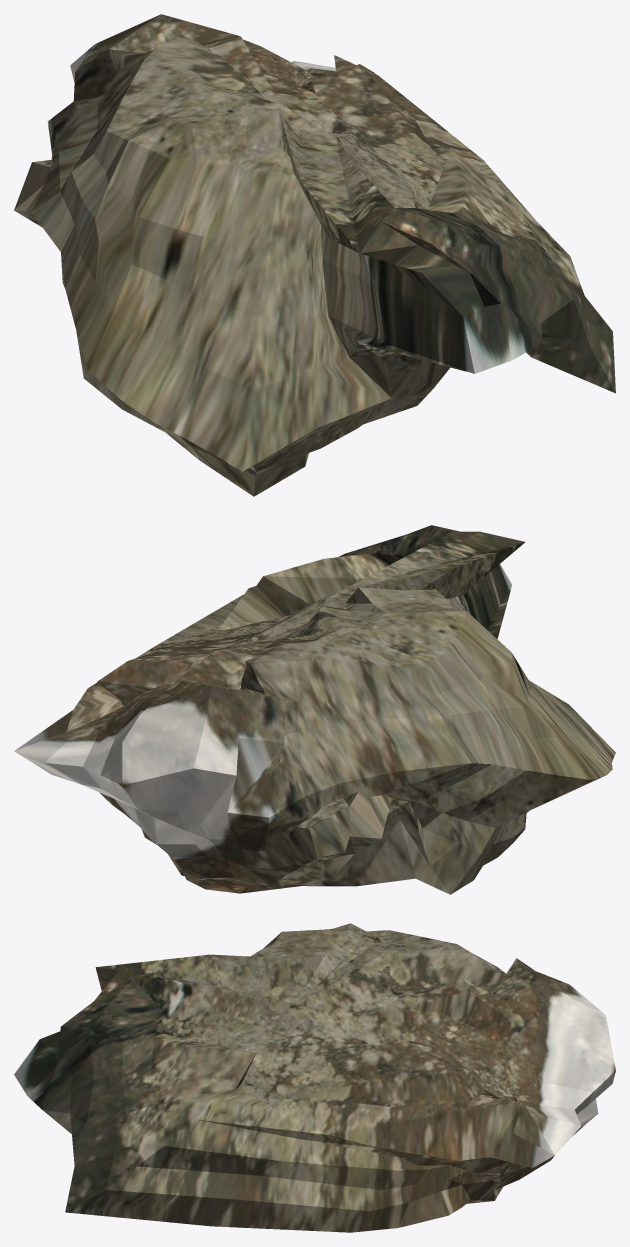
Rendered from PedraDOIS.fbx.
The picture shows the model from 3 angles, top to bottom: view 1: azimuth 30°, elevation 25°; view 2: azimuth 150°, elevation 25°; view 3: azimuth 270°, elevation 25°; orthographic projection. The views are drawn at different scales.
Visible parts, largest first — view 1: Sphere.011; view 2: Sphere.011; view 3: Sphere.011.
Part boxes in pixels (left/top/right/bottom): Sphere.011: left=14, top=14, right=615, bottom=496; Sphere.011: left=14, top=525, right=615, bottom=894; Sphere.011: left=14, top=923, right=615, bottom=1232.
Size of the model in its own units: 973 by 629 by 1352.
1 material, 1 textured.
